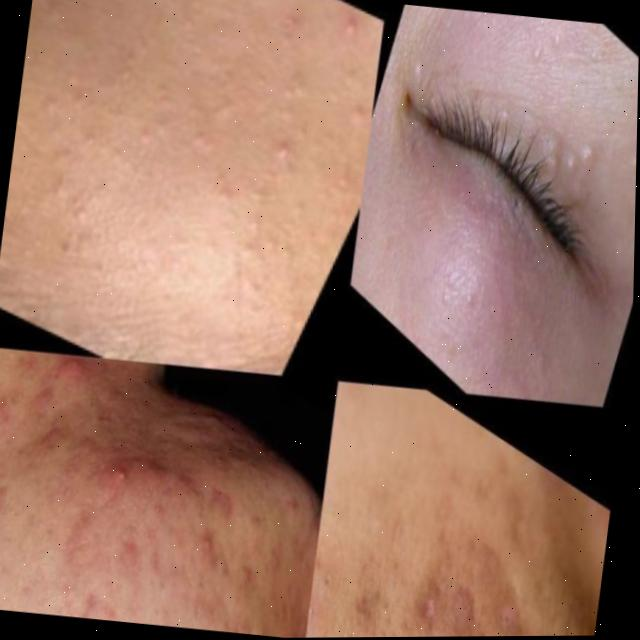Acne: (14, 0, 324, 276), (0, 415, 236, 615), (398, 522, 507, 637), (512, 67, 633, 159)
